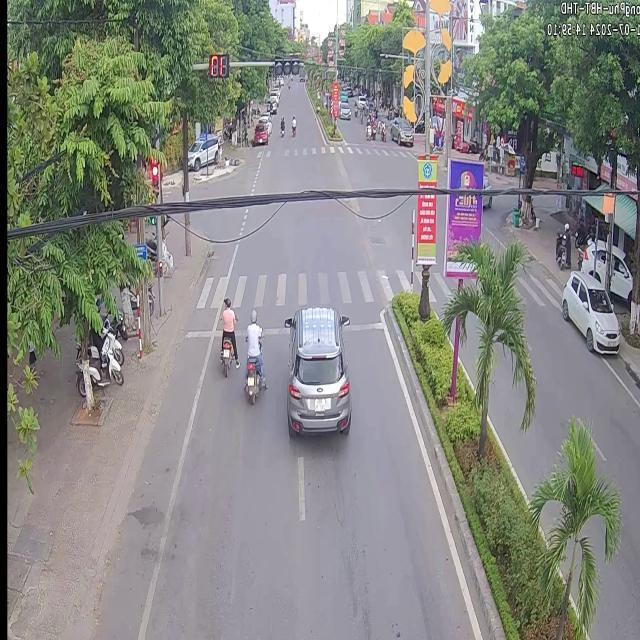car: (283, 302, 349, 435), (559, 269, 618, 351)
motobike: (243, 356, 259, 402), (218, 334, 232, 375)
red_light: (208, 56, 230, 78), (151, 151, 160, 195)
stop_line: (343, 320, 382, 329), (262, 325, 288, 334)
